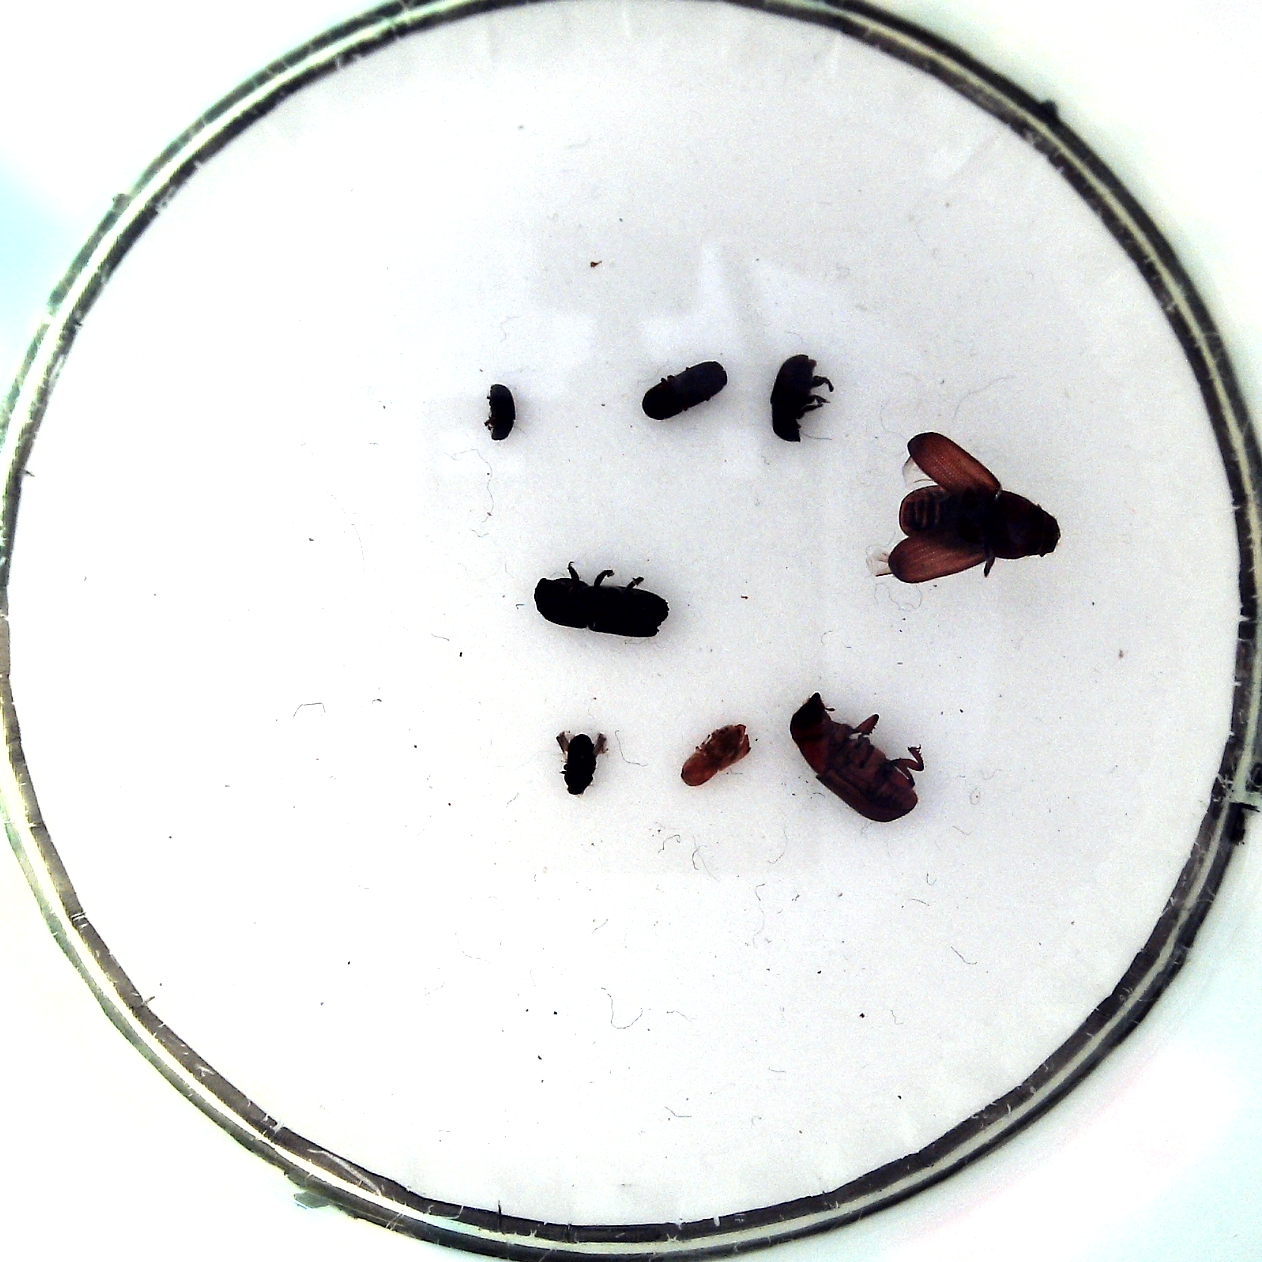Leconte: (790, 692, 920, 822), (898, 482, 1061, 561)
acuminatus: (564, 735, 596, 795)
armandi: (770, 354, 818, 443)
coleoptera: (680, 723, 749, 785), (487, 384, 515, 440)
linnaeus: (534, 578, 669, 639), (643, 361, 728, 420)
